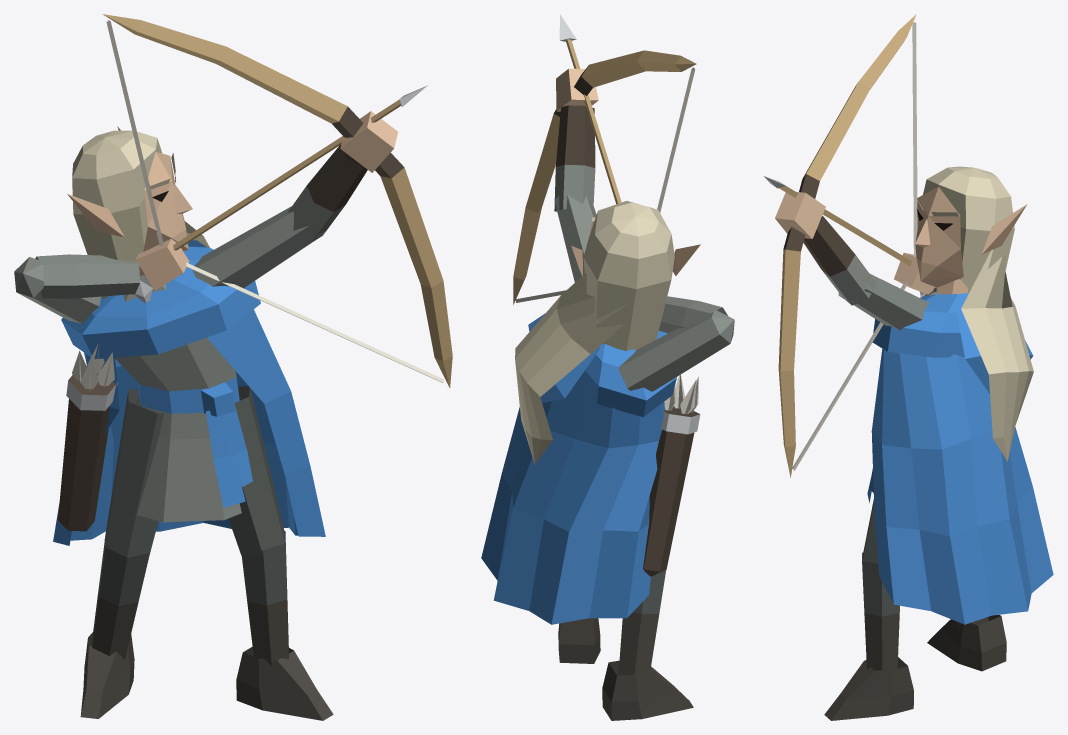
Rendered from haldir.glb.
3 renders of one model, left to right at view 1: azimuth 30°, elevation 25°; view 2: azimuth 150°, elevation 25°; view 3: azimuth 270°, elevation 25°, orthographic. The views are drawn at different scales.
Parts seen in each view (by area): view 1: haldir; view 2: haldir; view 3: haldir.
Part boxes in pixels (left/top/right/bottom): haldir: left=14, top=14, right=452, bottom=720; haldir: left=481, top=14, right=734, bottom=720; haldir: left=764, top=14, right=1053, bottom=720.
Size of the model in its own units: 0.9302 by 1.86 by 0.7808.
